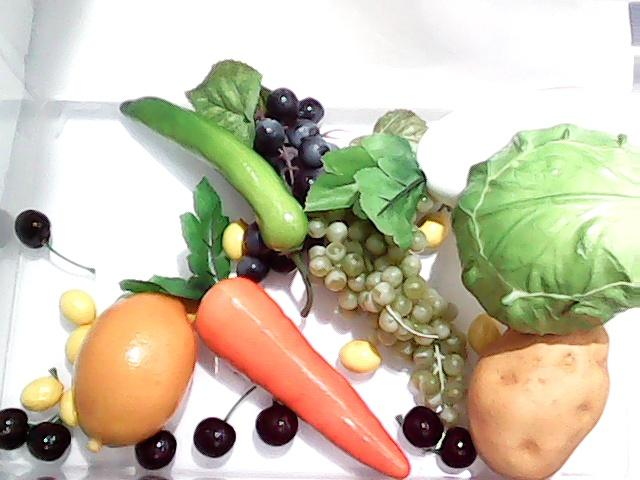cabbage: (447, 117, 640, 343)
carrot: (116, 175, 411, 480)
grape: (308, 207, 472, 427), (232, 84, 334, 284)
lemon: (66, 286, 200, 458)
pepper: (116, 83, 316, 257)
potato: (465, 319, 613, 480)
radish: (302, 78, 640, 250)
